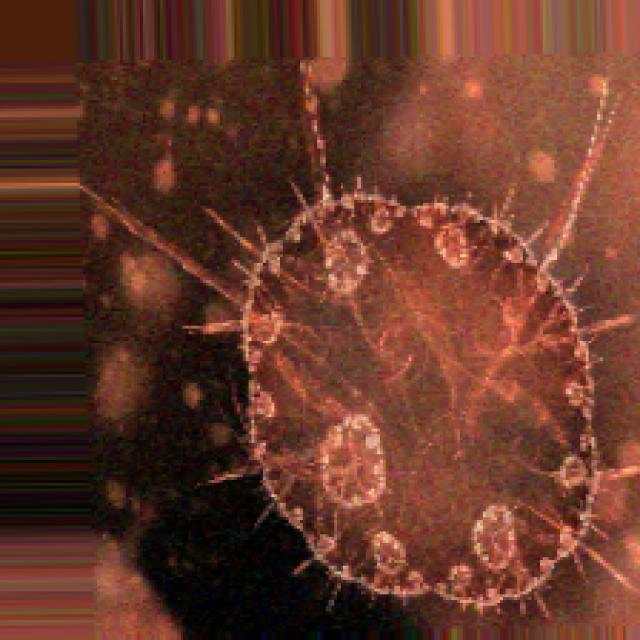Amoeba: (74, 49, 637, 637)
